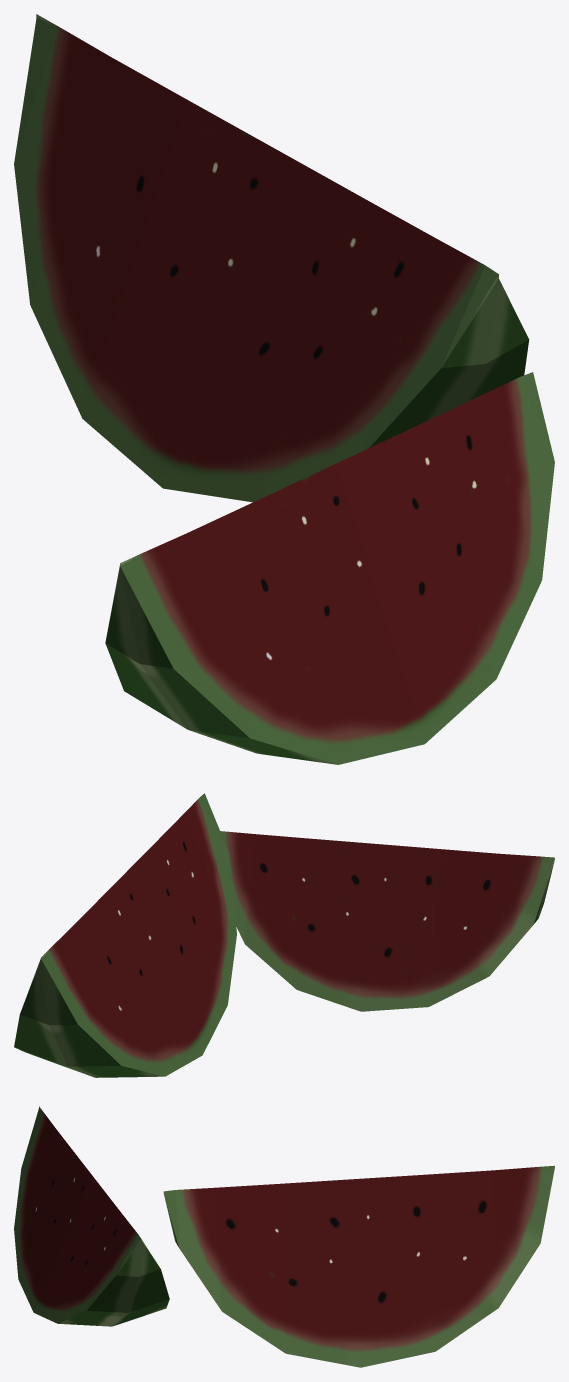
The model's file is semangka.fbx.
3 renders of one model, top to bottom at view 1: azimuth 30°, elevation 25°; view 2: azimuth 150°, elevation 25°; view 3: azimuth 270°, elevation 25°, orthographic. The views are drawn at different scales.
Parts seen in each view (by area): view 1: Sphere, Sphere.001; view 2: Sphere.001, Sphere; view 3: Sphere, Sphere.001.
Boxes of the visible parts, x1,y1,x2,y2 form: Sphere: [14, 14, 529, 502]; Sphere.001: [105, 372, 554, 764]; Sphere.001: [220, 831, 554, 1011]; Sphere: [14, 793, 236, 1077]; Sphere: [163, 1165, 554, 1367]; Sphere.001: [14, 1106, 169, 1326].
Size of the model in its own units: 470 by 273 by 718.
